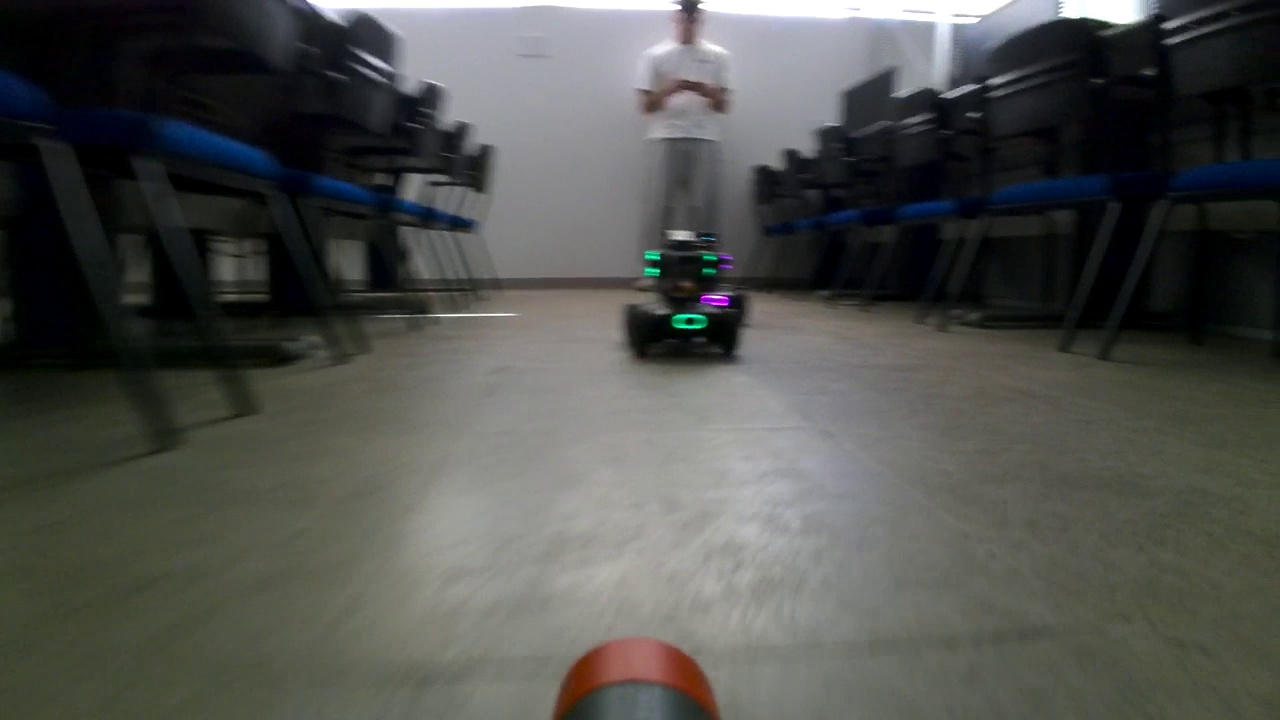robot: (622, 207, 743, 362), (659, 232, 748, 330)
